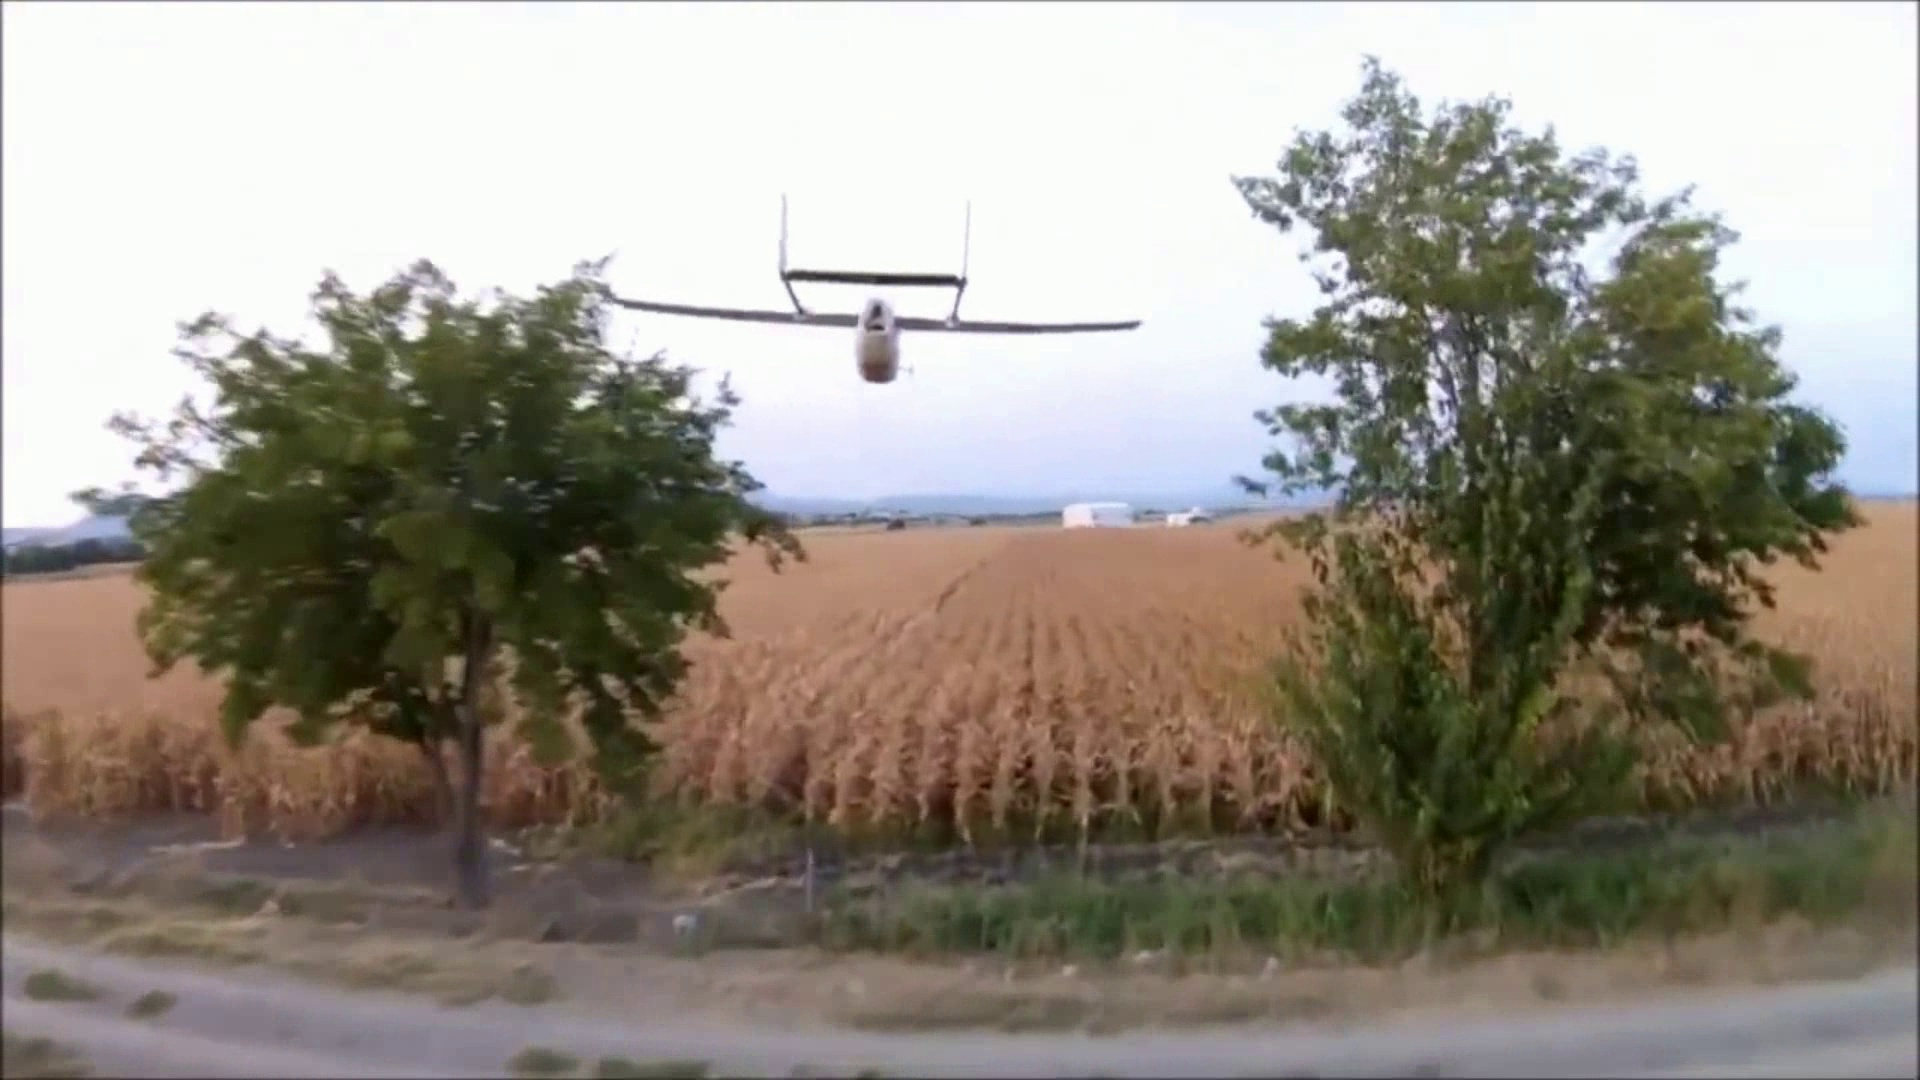airplane: (592, 194, 1146, 377)
